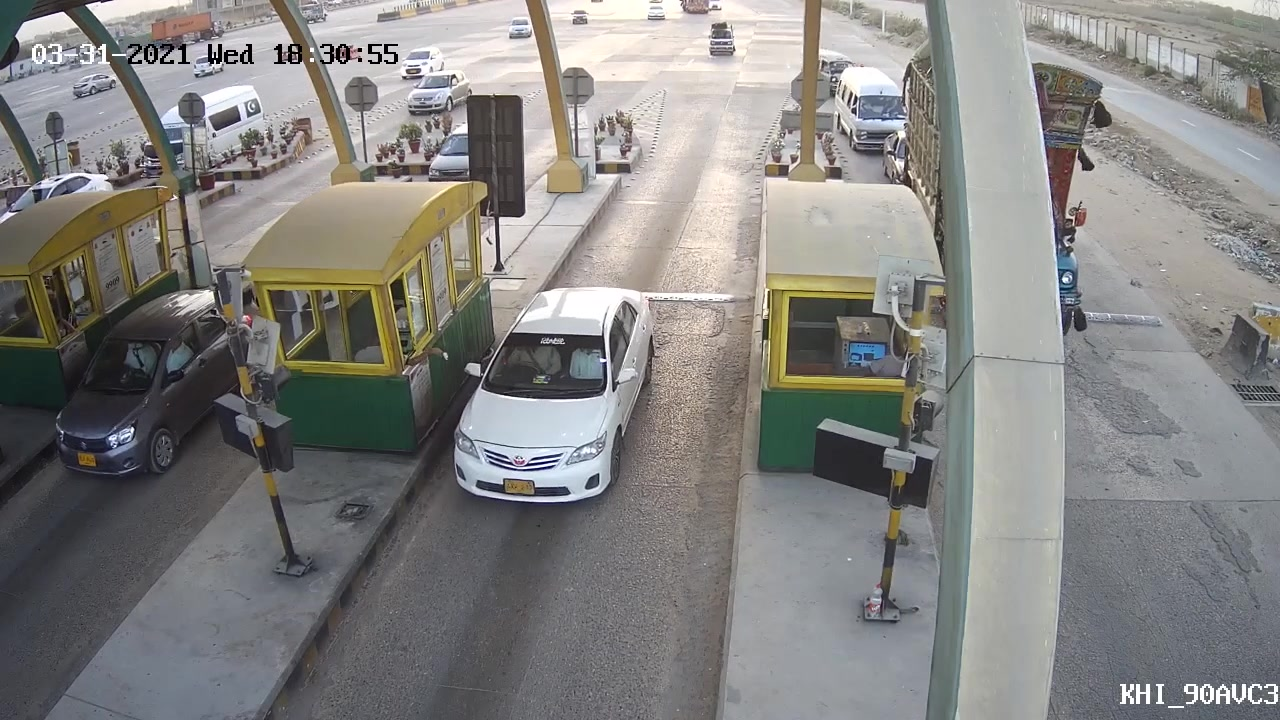F1: (446, 285, 660, 507)
